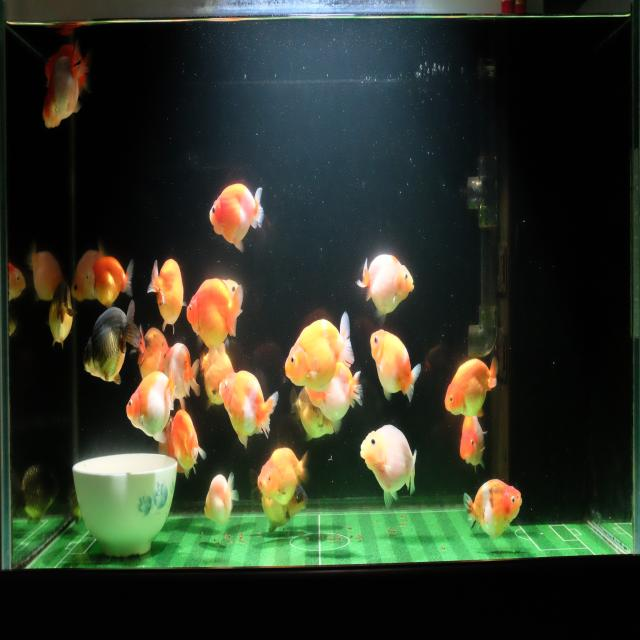Goldfish: (284, 310, 354, 395), (82, 296, 139, 391), (359, 422, 418, 510), (218, 367, 279, 452), (185, 275, 242, 364), (354, 251, 416, 330), (207, 179, 266, 256), (41, 40, 90, 132), (369, 327, 423, 408), (461, 474, 524, 543), (250, 464, 309, 536), (123, 371, 178, 446), (303, 362, 365, 427), (443, 354, 500, 420), (255, 445, 312, 508), (12, 454, 61, 525), (145, 252, 185, 338), (288, 385, 340, 446), (170, 407, 206, 485), (82, 254, 134, 308), (161, 341, 201, 410), (26, 238, 65, 304), (198, 345, 236, 411), (43, 40, 90, 93), (45, 275, 76, 354), (71, 241, 109, 302), (203, 468, 239, 528), (135, 323, 169, 386), (458, 407, 488, 476), (9, 255, 25, 305)
